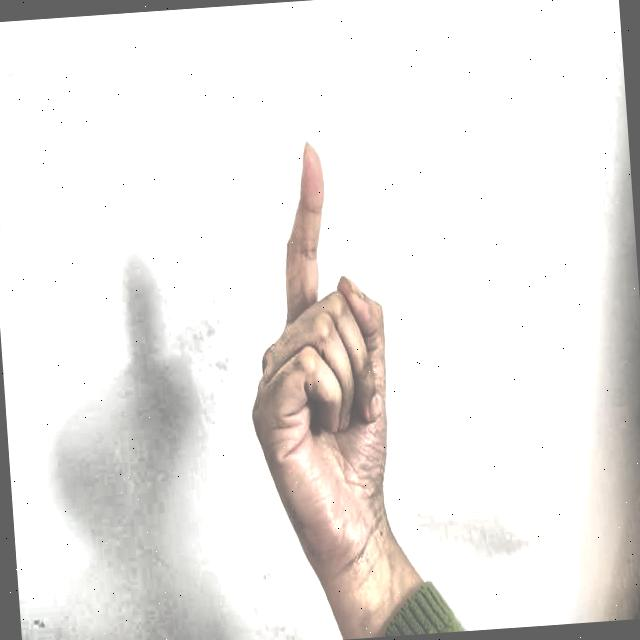U: (208, 109, 414, 578)
